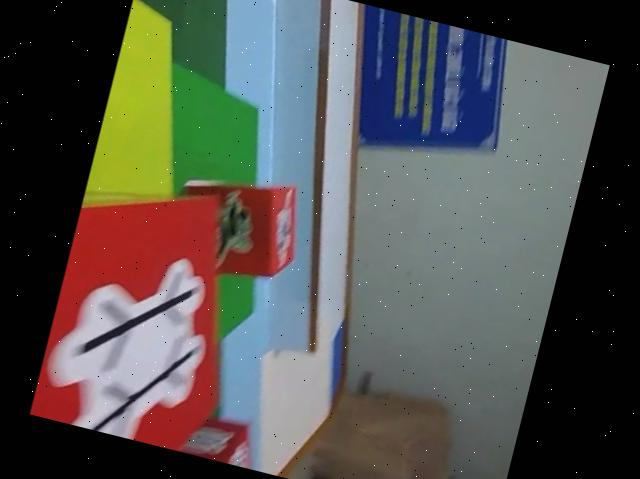R1: (162, 157, 316, 292)
R2 Fake: (156, 403, 268, 471)
R2 Real: (30, 159, 272, 459), (136, 0, 263, 13)
